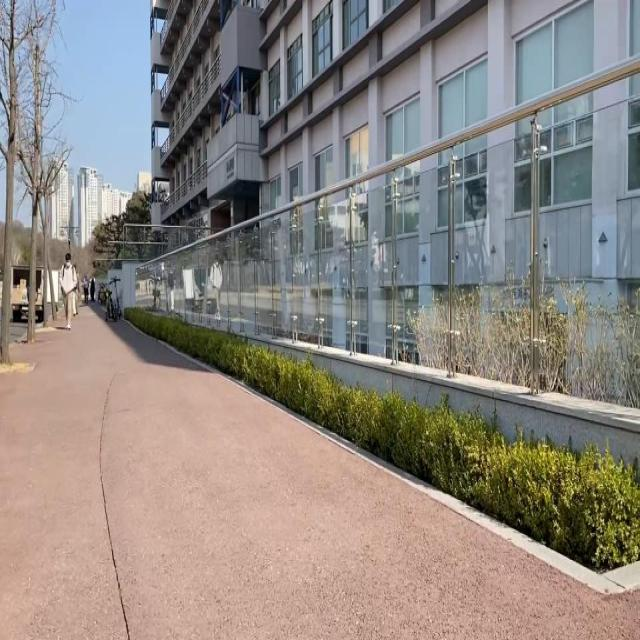sidewalk: (0, 306, 640, 640)
